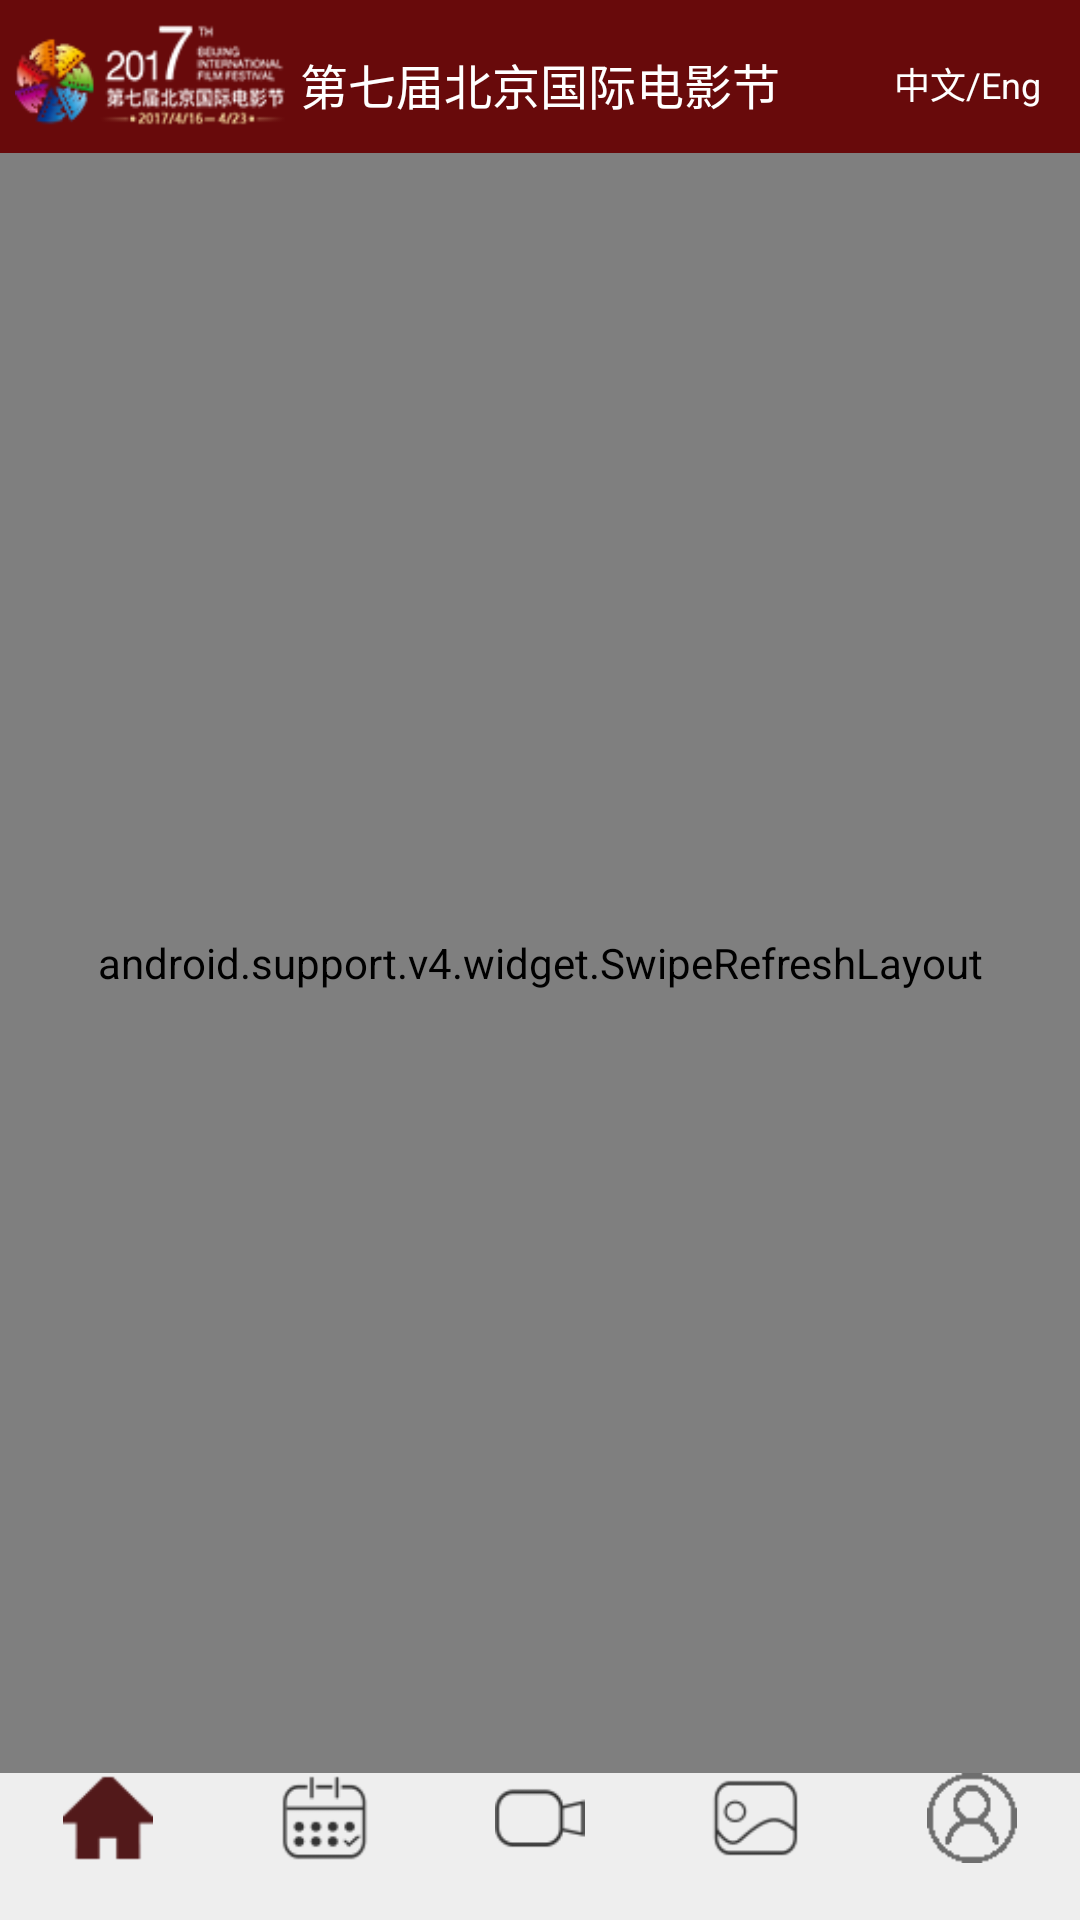

Icon bounding boxes for this 1080*1920 phone screenshot, format (x1, y1, x2, y2):
photos: (714, 1780, 798, 1856)
richeng: (282, 1776, 367, 1860)
shou ye: (63, 1776, 153, 1860)
user: (927, 1773, 1017, 1863)
video: (495, 1789, 585, 1847)
